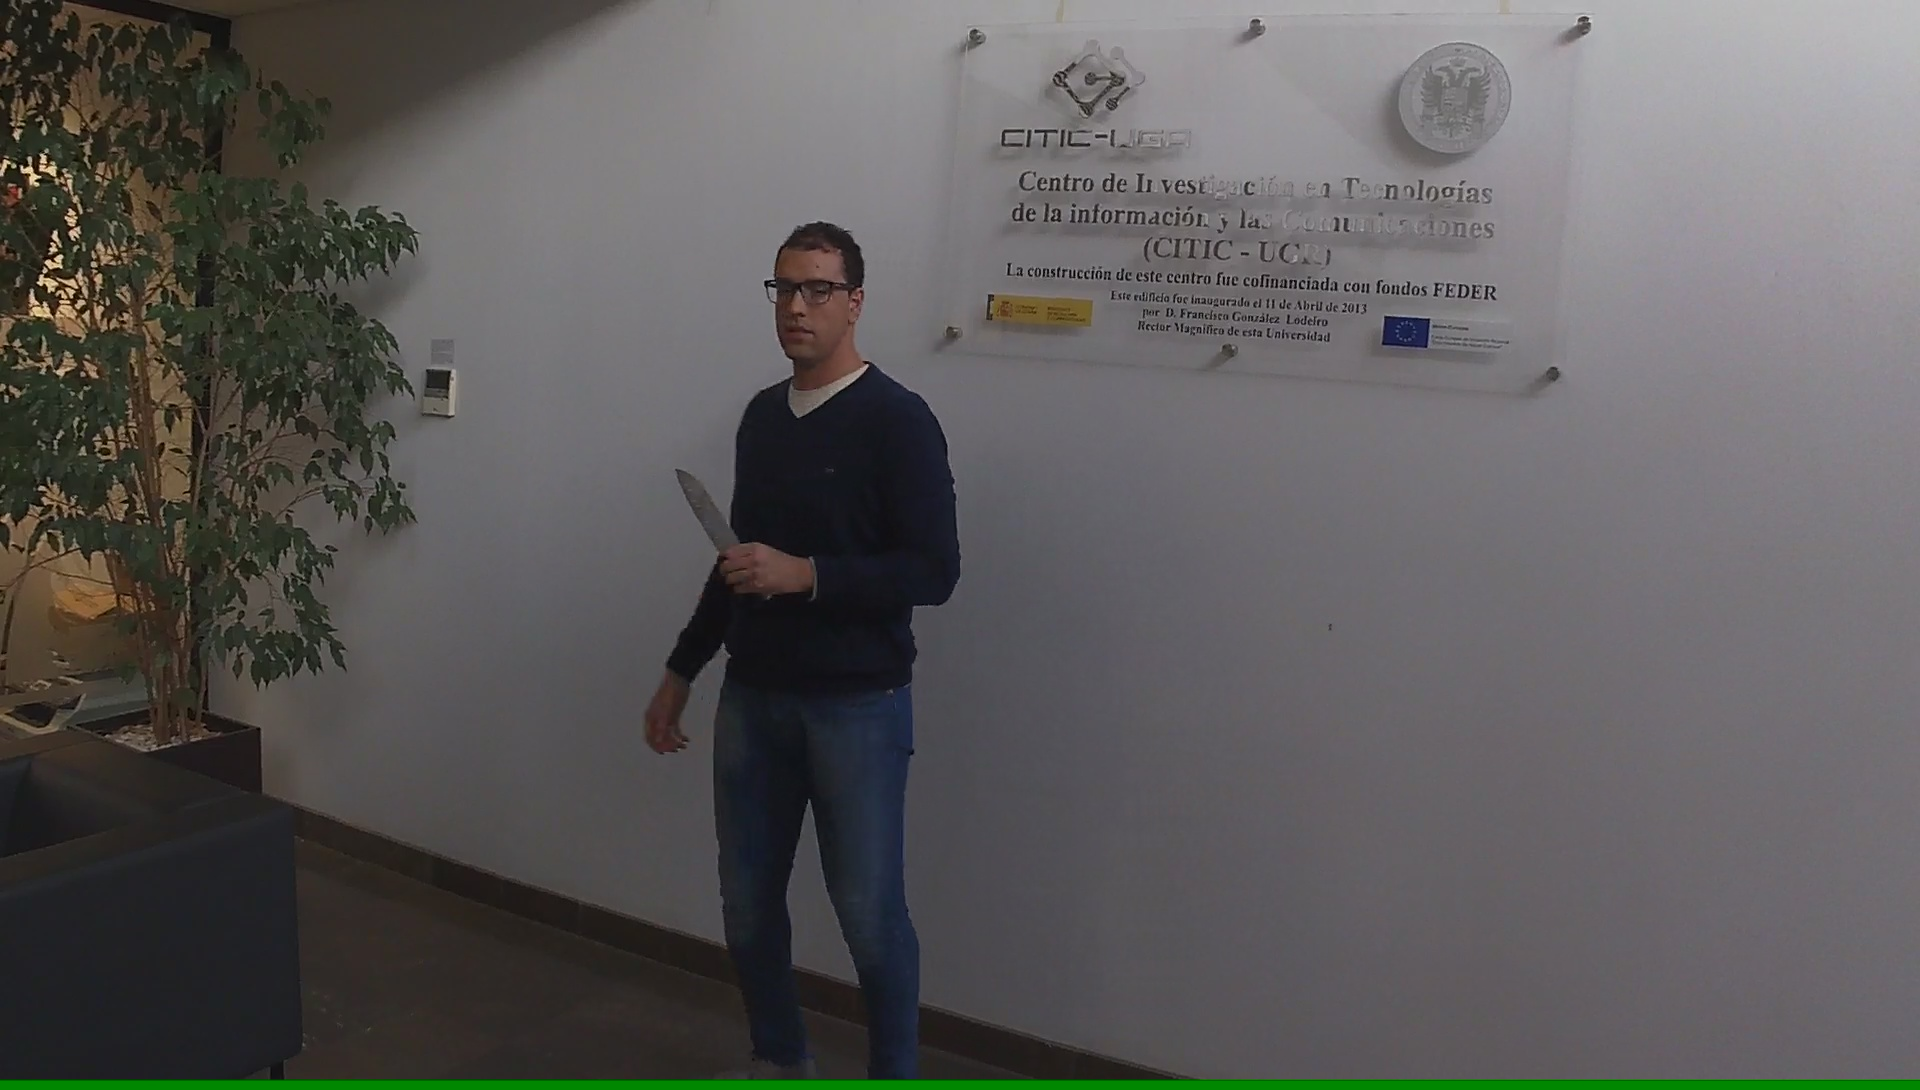knife: (669, 457, 778, 604)
